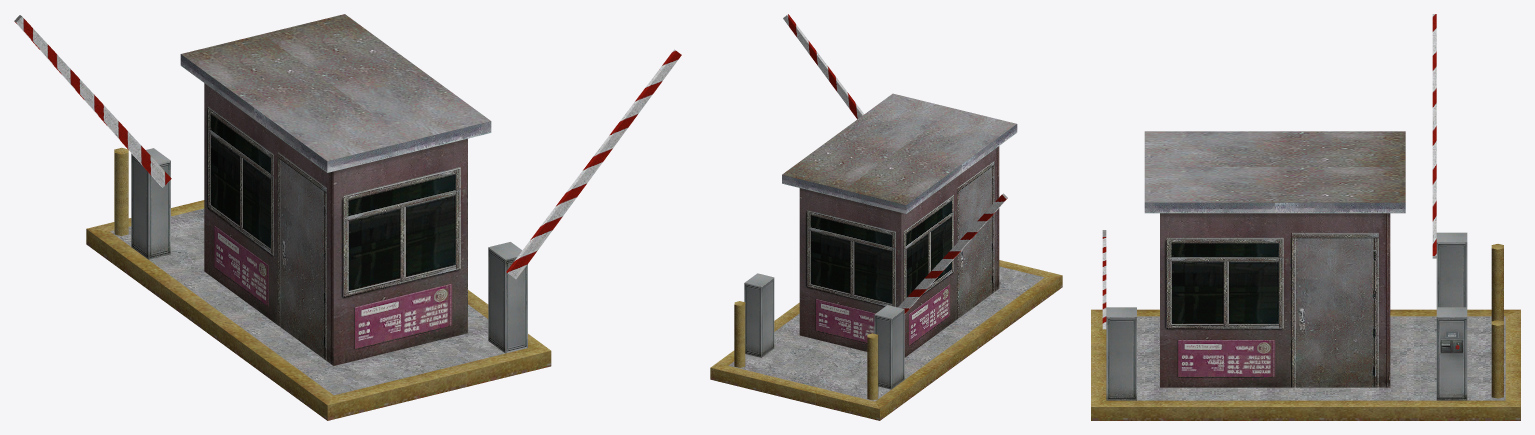
File: parking_booth_dt.fbx
3 renders of one model, left to right at view 1: azimuth 30°, elevation 25°; view 2: azimuth 150°, elevation 25°; view 3: azimuth 270°, elevation 25°, orthographic. The views are drawn at different scales.
Visible parts, largest first — view 1: mesh_0, mesh_1, mesh_2; view 2: mesh_0, mesh_1, mesh_2; view 3: mesh_0, mesh_1, mesh_2.
Boxes of the visible parts, x1,y1,x2,y2 form: mesh_0: [180, 14, 491, 365]; mesh_1: [14, 15, 681, 420]; mesh_2: [110, 208, 504, 395]; mesh_0: [782, 93, 1017, 357]; mesh_1: [710, 14, 1062, 420]; mesh_2: [728, 266, 1044, 401]; mesh_0: [1144, 131, 1405, 387]; mesh_1: [1091, 14, 1520, 420]; mesh_2: [1137, 316, 1505, 400].
Bounding box in the file's own units: 644 × 374 × 560.
3 materials, 3 textured.
